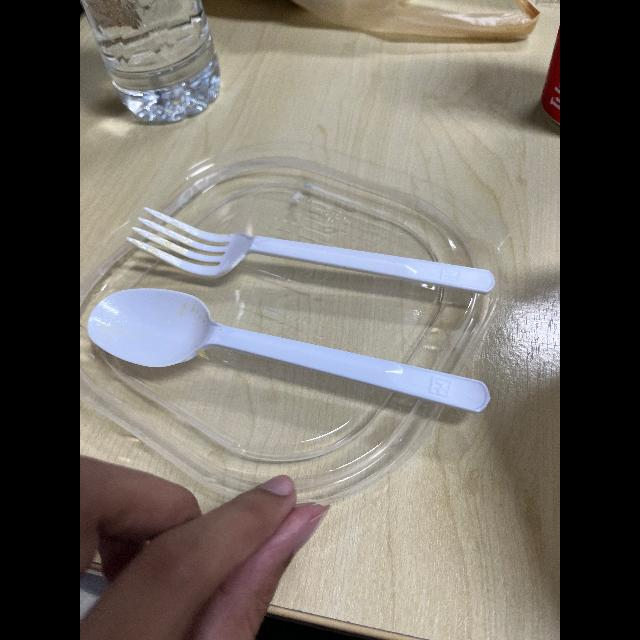plastic_cultery: (87, 274, 493, 434), (128, 202, 498, 310)
